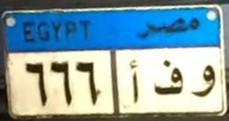6: (23, 61, 49, 108), (76, 59, 102, 105), (51, 59, 73, 105)
alif: (125, 57, 143, 105)
faa: (152, 57, 183, 100)
waw: (191, 54, 218, 101)
